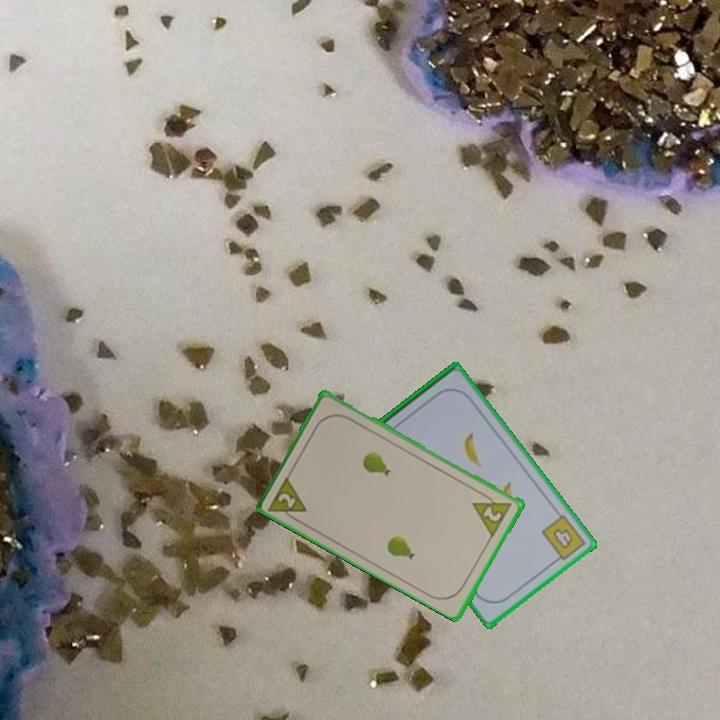2p: (265, 472, 310, 527), (469, 487, 515, 539)
4b: (538, 511, 589, 566)
